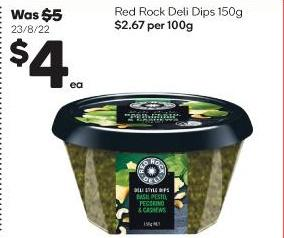description_block: (108, 0, 250, 37)
price_main: (6, 35, 85, 95)
product_image_block: (45, 88, 259, 237)
promo_text_block: (5, 6, 71, 34)
